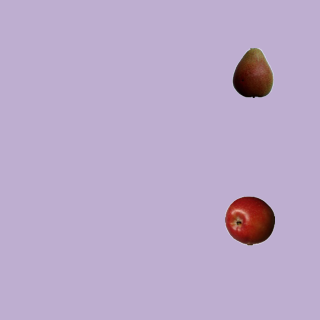Apple Braeburn: (224, 195, 274, 245)
Pear Forelle: (227, 47, 277, 97)
